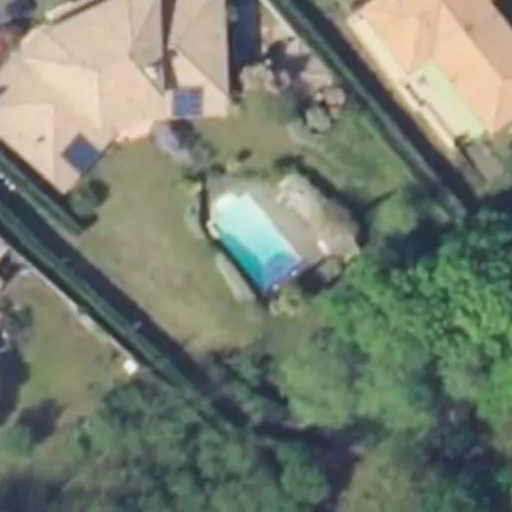pool: (197, 212, 306, 260)
